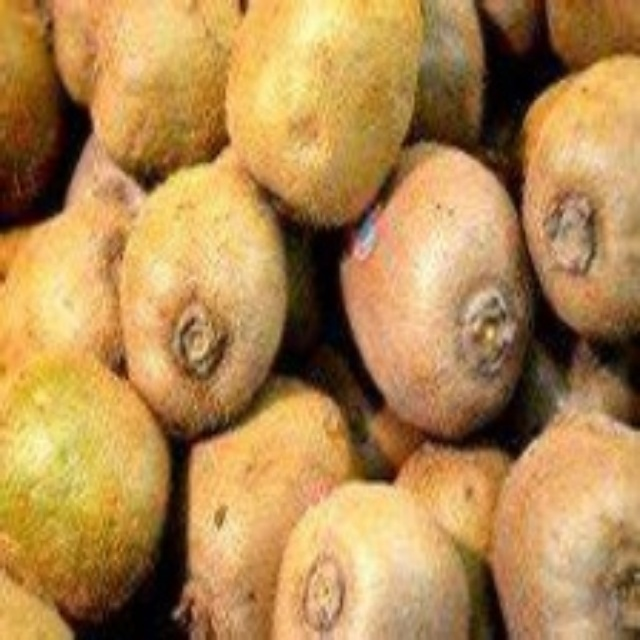kiwi: (352, 151, 518, 431), (116, 169, 287, 434), (5, 357, 176, 615), (145, 402, 335, 627), (467, 389, 636, 637), (234, 0, 398, 218), (523, 65, 639, 350), (288, 477, 476, 639)
